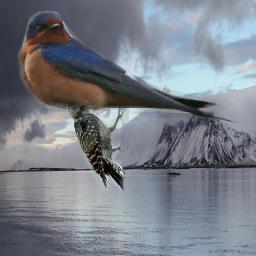Swallow: (18, 11, 239, 124)
Woodpecker: (66, 93, 129, 193)
